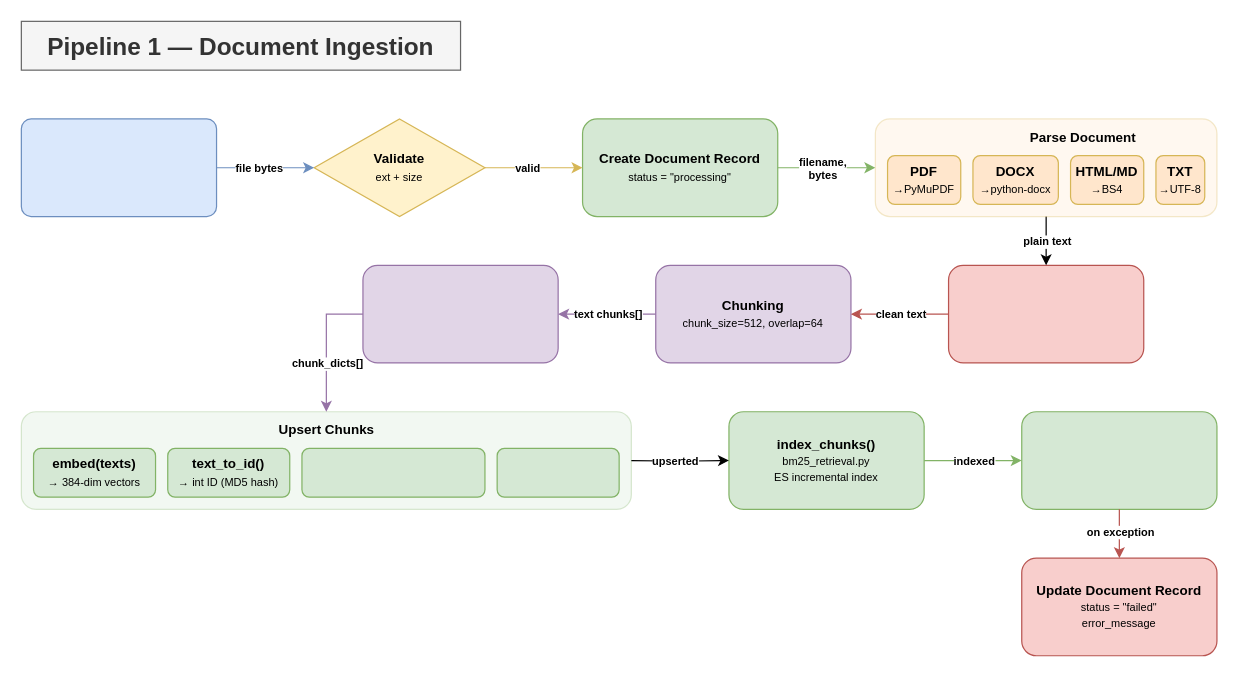
The diagram is 1238 pixels wide and 677 high, and some of its shapes have lost their labels. Here are the shapes that lost their labels. From the top down, the centre of each, then its label:
pixel 118 167: File Upload (≤ 50 MB)
pixel 460 313: Build chunk_dicts [{text, source, chunk_index}, ...]
pixel 1045 313: Whitespace Normalization collapse newlines + spaces
pixel 393 472: Build PointStructs {text, source, chunk_index, doc_id}
pixel 557 472: Qdrant Upsert batches of 100
pixel 1119 460: Update Document Record status = "indexed" chunks_count
